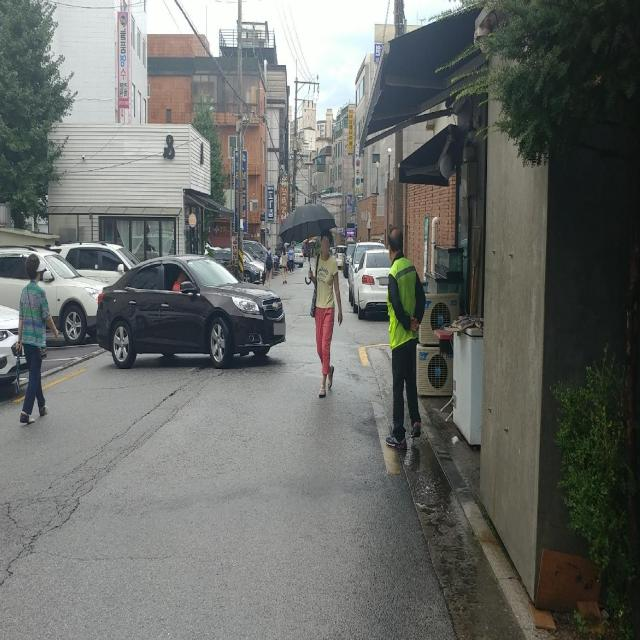car ahead at: (100, 253, 286, 365)
person ahead at: (382, 231, 424, 447), (15, 253, 56, 430), (306, 231, 342, 406)
